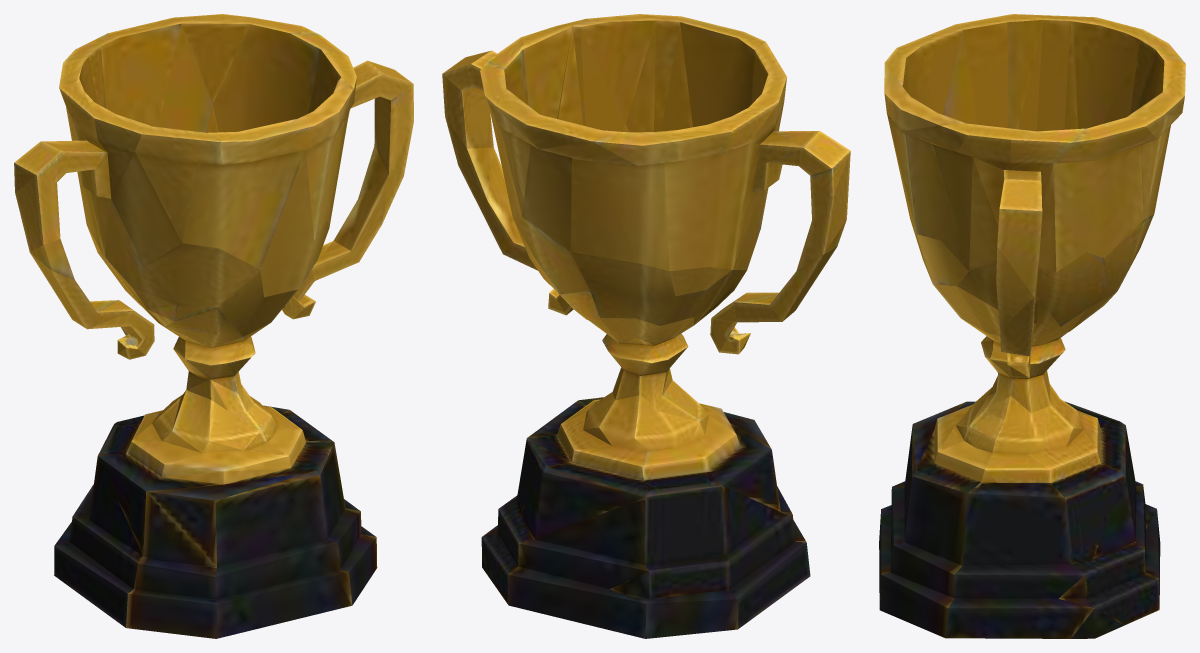
The model's file is trofeu.glb.
3 views of the same model, side by side, from view 1: azimuth 30°, elevation 25°; view 2: azimuth 150°, elevation 25°; view 3: azimuth 270°, elevation 25° (orthographic). The views are drawn at different scales.
Parts seen in each view (by area): view 1: Mesh_0; view 2: Mesh_0; view 3: Mesh_0.
Boxes of the visible parts, x1,y1,x2,y2 form: Mesh_0: (14,14,413,638); Mesh_0: (442,14,850,638); Mesh_0: (879,14,1185,638).
Size of the model in its own units: 0.3662 by 0.45 by 0.249.
Materials: 1 (1 with a texture image).
